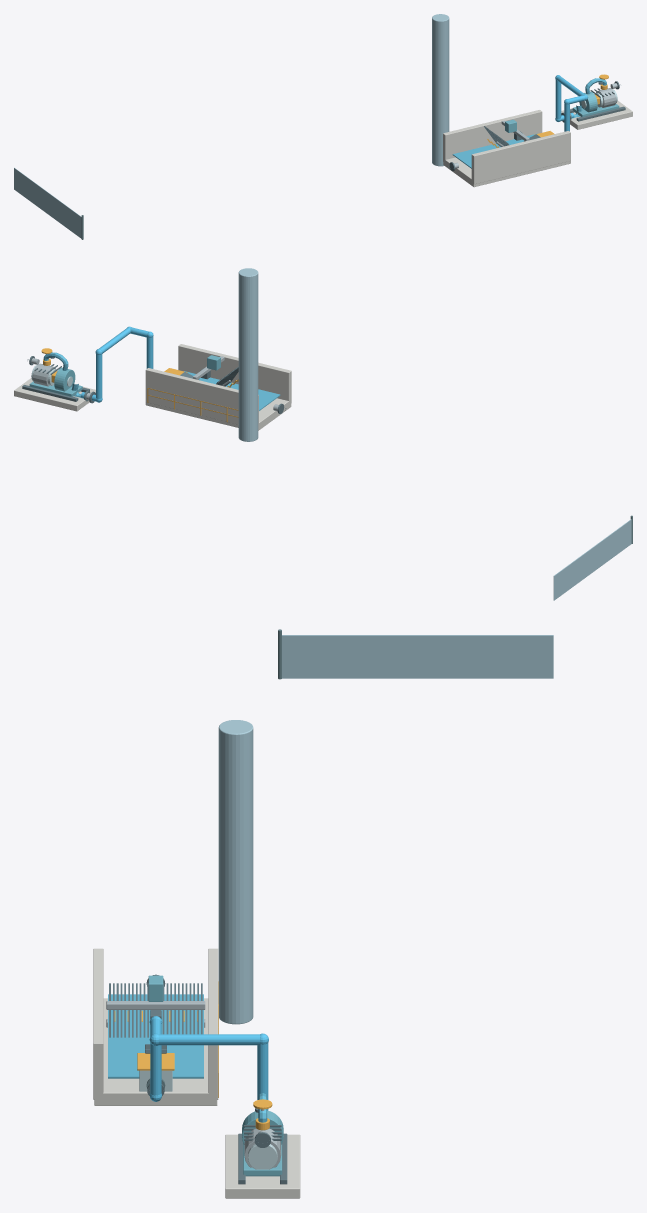
3 views of the same model, one above another, from view 1: azimuth 30°, elevation 25°; view 2: azimuth 150°, elevation 25°; view 3: azimuth 270°, elevation 25° (orthographic). The views are drawn at different scales.
Visible parts, largest first — view 1: render-batch-8, render-batch-5, render-batch-0, render-batch-2, render-batch-1, render-batch-4, render-batch-6; view 2: render-batch-8, render-batch-5, render-batch-0, render-batch-4, render-batch-1, render-batch-2, render-batch-9, render-batch-6; view 3: render-batch-5, render-batch-8, render-batch-2, render-batch-1, render-batch-0, render-batch-6, render-batch-4, render-batch-7, render-batch-9.
Part boxes in pixels (left/top/right/bottom): render-batch-8: left=443, top=101, right=632, bottom=187; render-batch-5: left=14, top=14, right=449, bottom=238; render-batch-0: left=555, top=75, right=588, bottom=131; render-batch-2: left=452, top=78, right=606, bottom=168; render-batch-1: left=448, top=81, right=625, bottom=171; render-batch-4: left=505, top=91, right=619, bottom=132; render-batch-6: left=454, top=79, right=617, bottom=168; render-batch-8: left=14, top=344, right=291, bottom=430; render-batch-5: left=238, top=268, right=631, bottom=600; render-batch-0: left=81, top=326, right=153, bottom=402; render-batch-4: left=29, top=355, right=220, bottom=396; render-batch-1: left=22, top=356, right=286, bottom=413; render-batch-2: left=43, top=352, right=280, bottom=410; render-batch-9: left=41, top=348, right=238, bottom=422; render-batch-6: left=31, top=354, right=278, bottom=411; render-batch-5: left=218, top=635, right=553, bottom=1024; render-batch-8: left=93, top=948, right=300, bottom=1198; render-batch-2: left=108, top=994, right=267, bottom=1122; render-batch-1: left=109, top=974, right=287, bottom=1184; render-batch-0: left=149, top=1016, right=268, bottom=1110; render-batch-6: left=106, top=1001, right=281, bottom=1167; render-batch-4: left=148, top=975, right=283, bottom=1176; render-batch-7: left=139, top=1070, right=277, bottom=1169; render-batch-9: left=114, top=981, right=272, bottom=1130.
Bounding box in the file's own units: 46.47 × 12 × 17.22.
